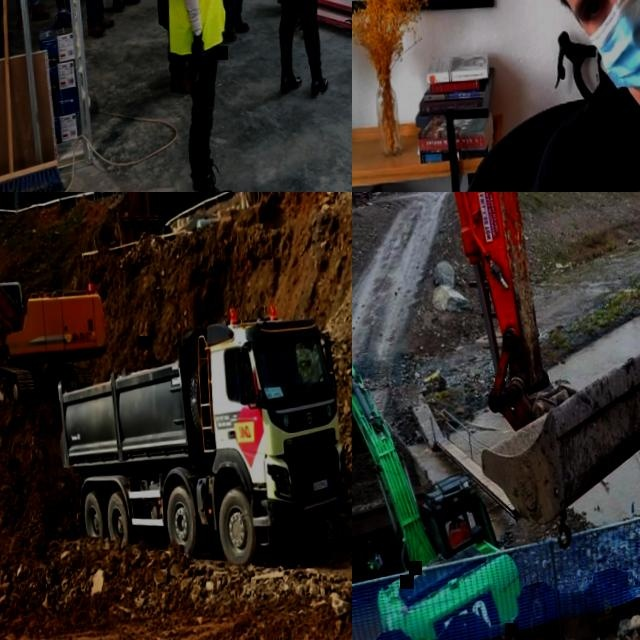Mask: (573, 0, 640, 95)
NO-Safety Vest: (548, 59, 640, 192)
Person: (465, 0, 640, 192), (151, 0, 245, 192), (256, 0, 336, 101), (137, 0, 206, 93), (232, 361, 253, 396), (448, 514, 470, 546)
Safety Vest: (160, 0, 231, 53), (449, 517, 467, 543)
machinery: (423, 192, 640, 640), (52, 316, 352, 574), (352, 344, 526, 640), (0, 209, 116, 467)
